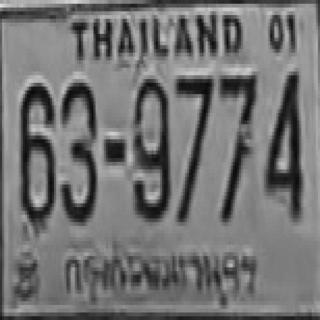N03: (60, 81, 96, 220)
N04: (263, 68, 302, 215)
N06: (19, 79, 54, 226)
N07: (174, 72, 212, 218), (218, 72, 256, 218)
N09: (131, 75, 168, 218)
P04: (58, 240, 260, 300)
